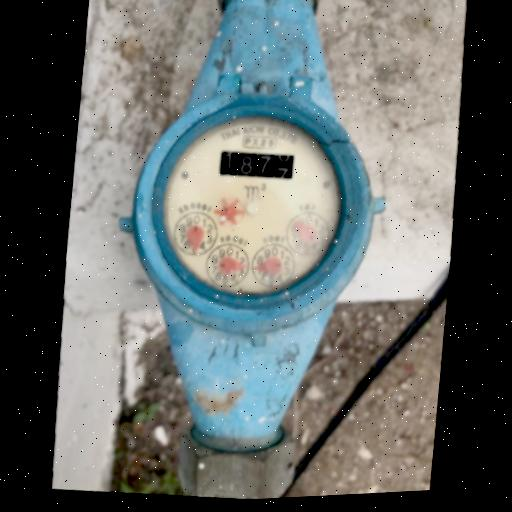1: (220, 149, 240, 176)
6: (275, 154, 295, 180)
7: (255, 152, 276, 179)
8: (238, 151, 257, 178)
border_water_meter_number: (218, 147, 295, 184)
